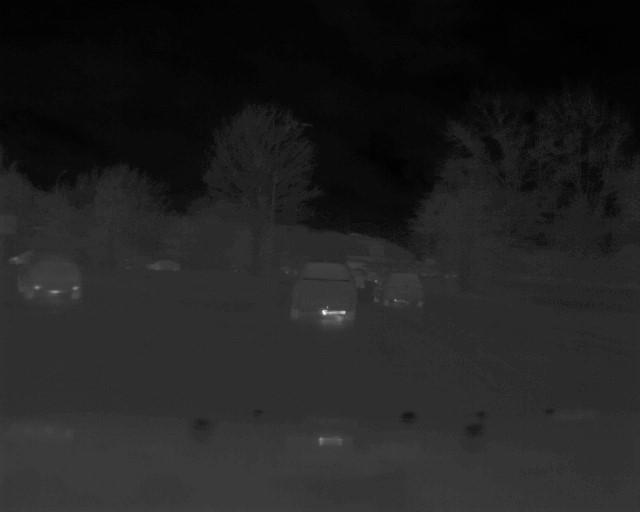car: (289, 260, 358, 333), (16, 259, 84, 307), (371, 273, 425, 310), (146, 257, 182, 273)
